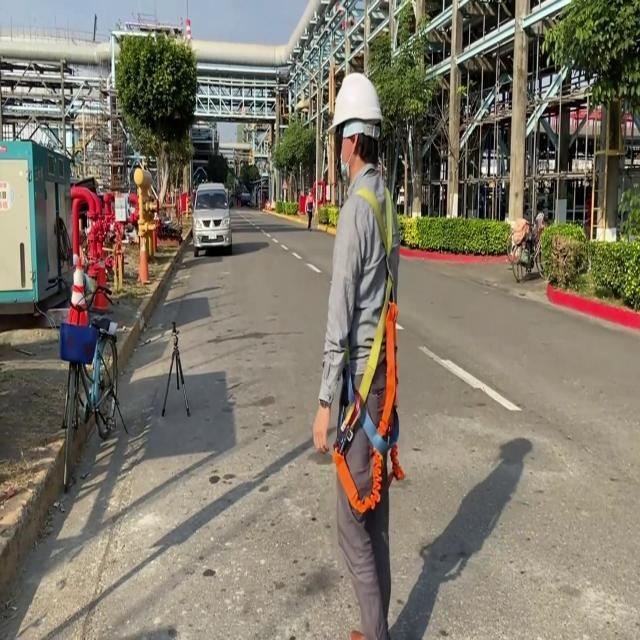Harness: (334, 188, 405, 516)
